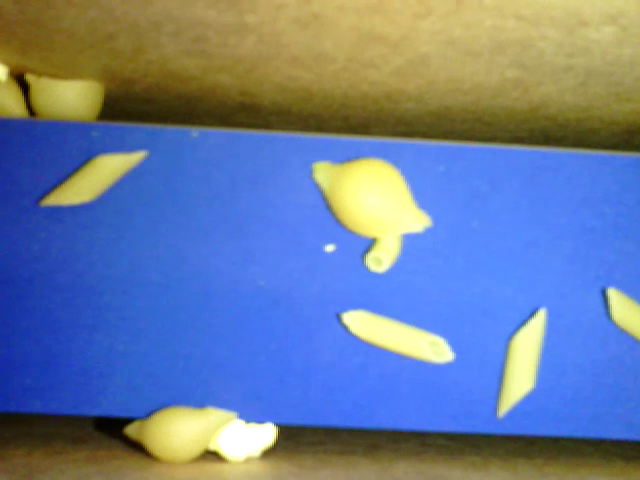elbow: (366, 235, 405, 272)
penne: (339, 309, 457, 368), (38, 150, 149, 205), (498, 306, 548, 420), (607, 287, 638, 337)
shell: (312, 157, 434, 238), (122, 404, 237, 461), (23, 71, 107, 125)
